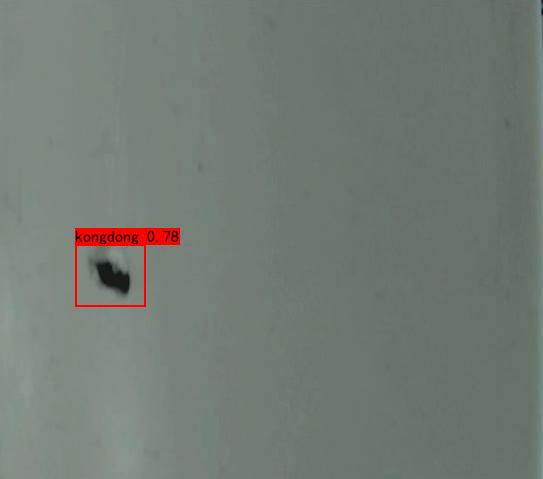kongdong: (82, 241, 141, 302)
